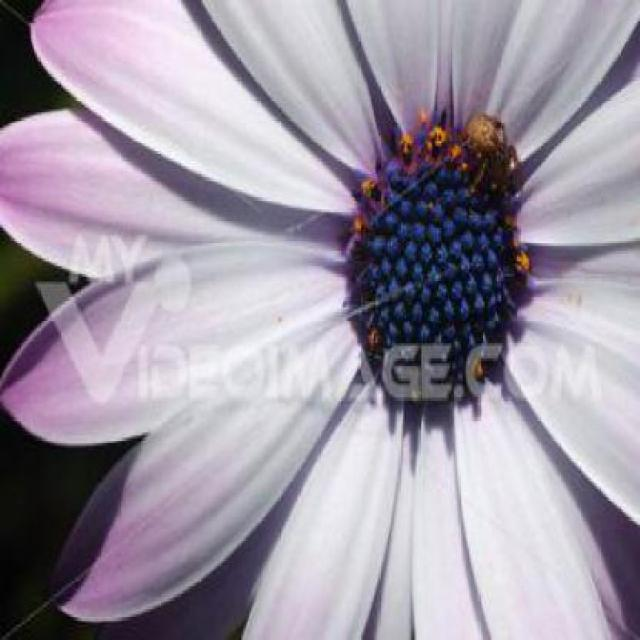Flower: (2, 2, 639, 638), (345, 116, 529, 405)
